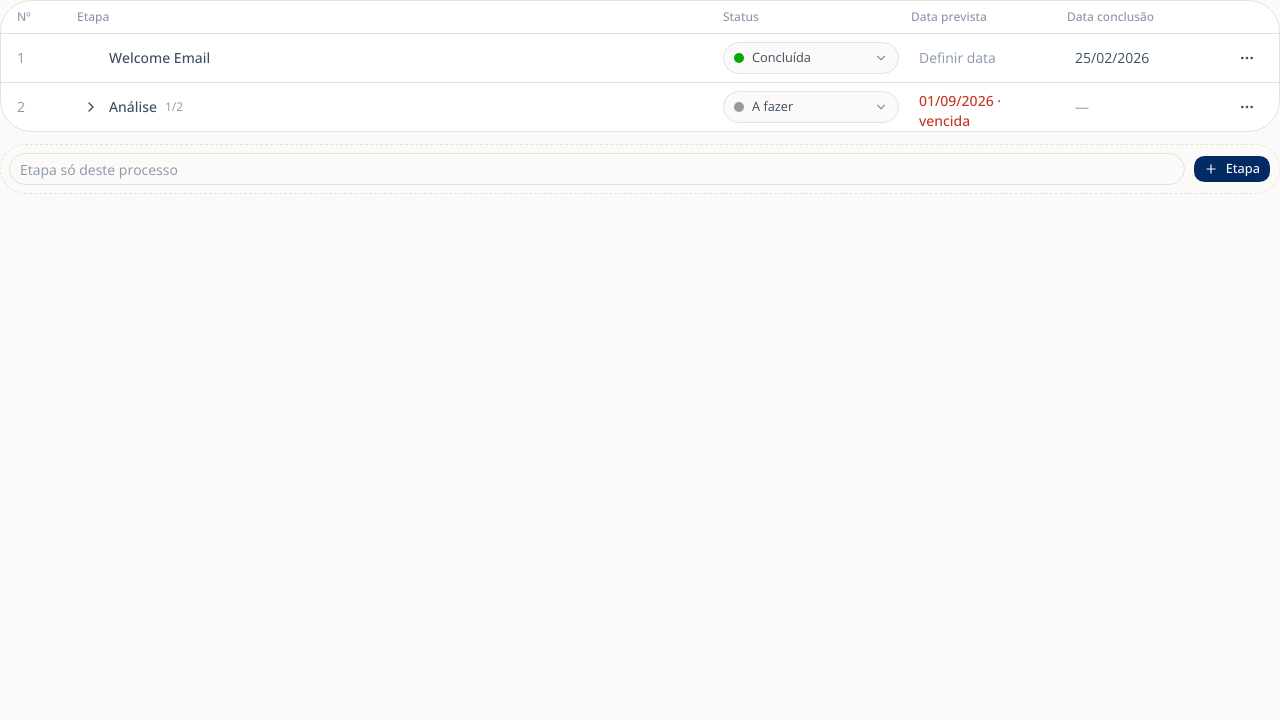
Test: EtapasDoProcesso › excluir pede confirmação e nomeia as sub-etapas que vão junto
# Radix abre o menu no pointerdown, não no click.
Step 1. Press the mouse on the button named "Ações de Análise" → (1247, 107), box [1231,91,1263,123]
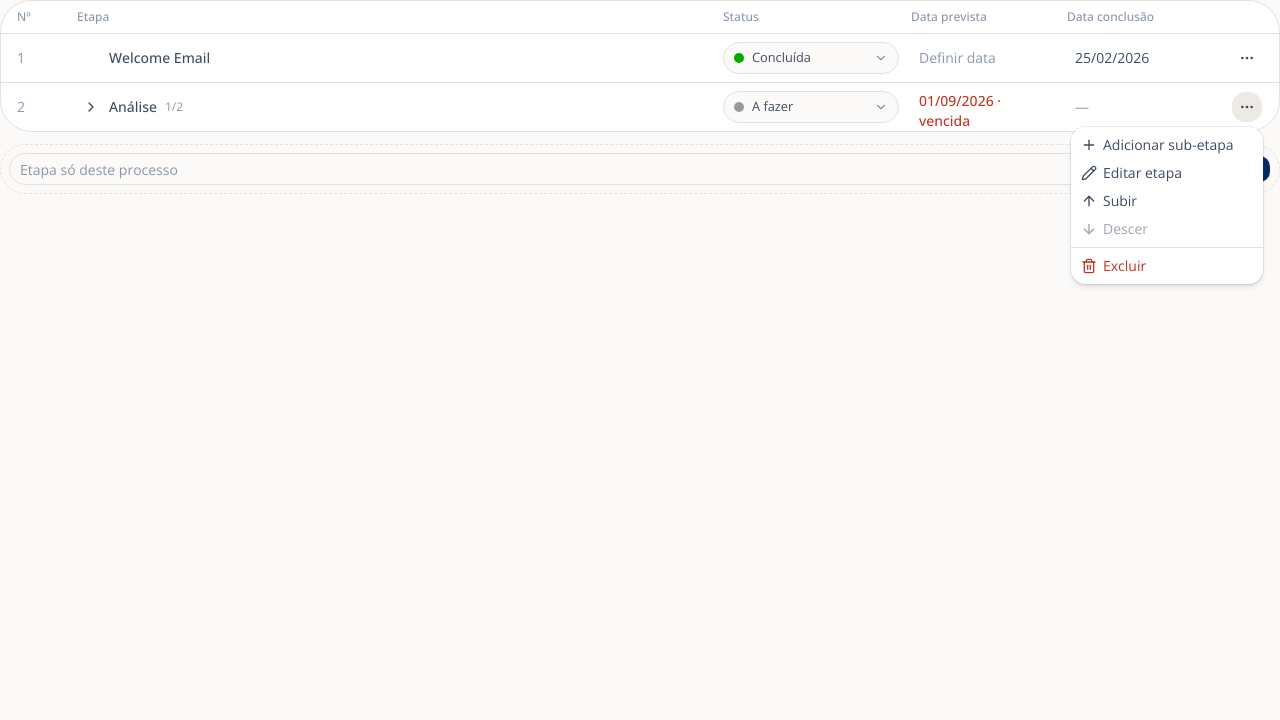
Step 2. Click the menu item "Excluir" → (1114, 266), box [1081,256,1146,275]
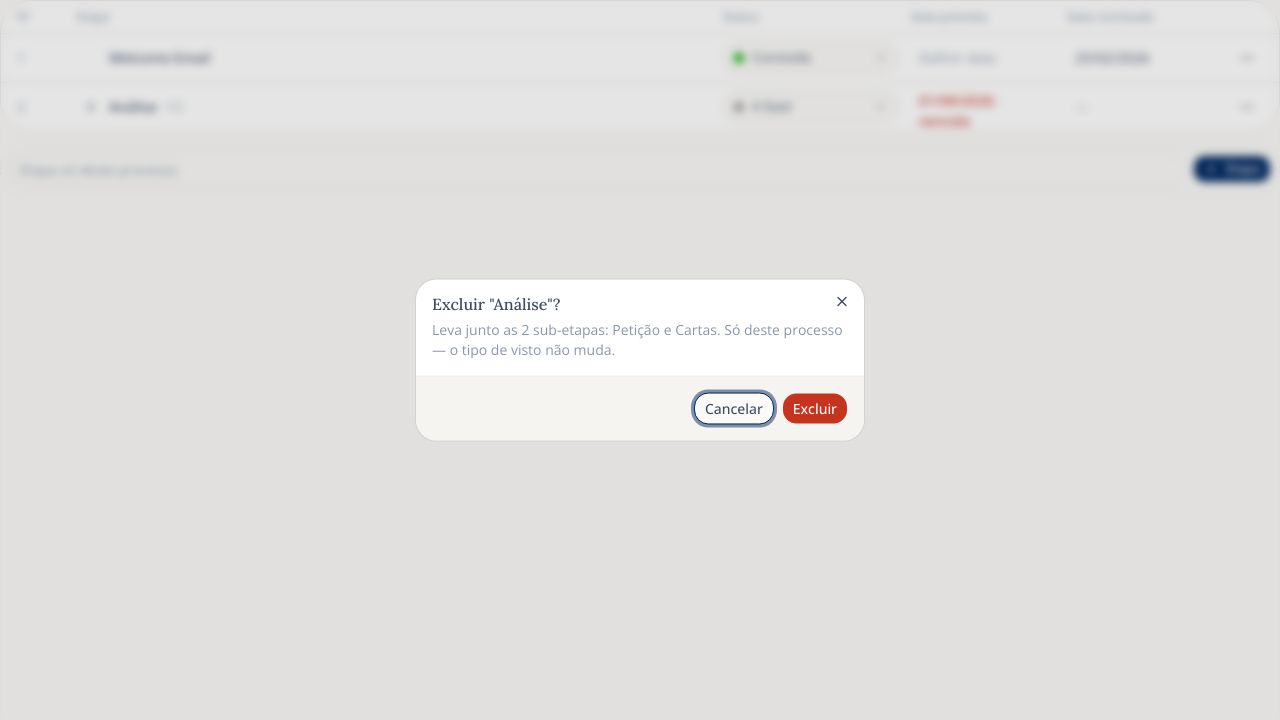
Expected: the text "Petição e Cartas" is shown, [432,320,724,338]
